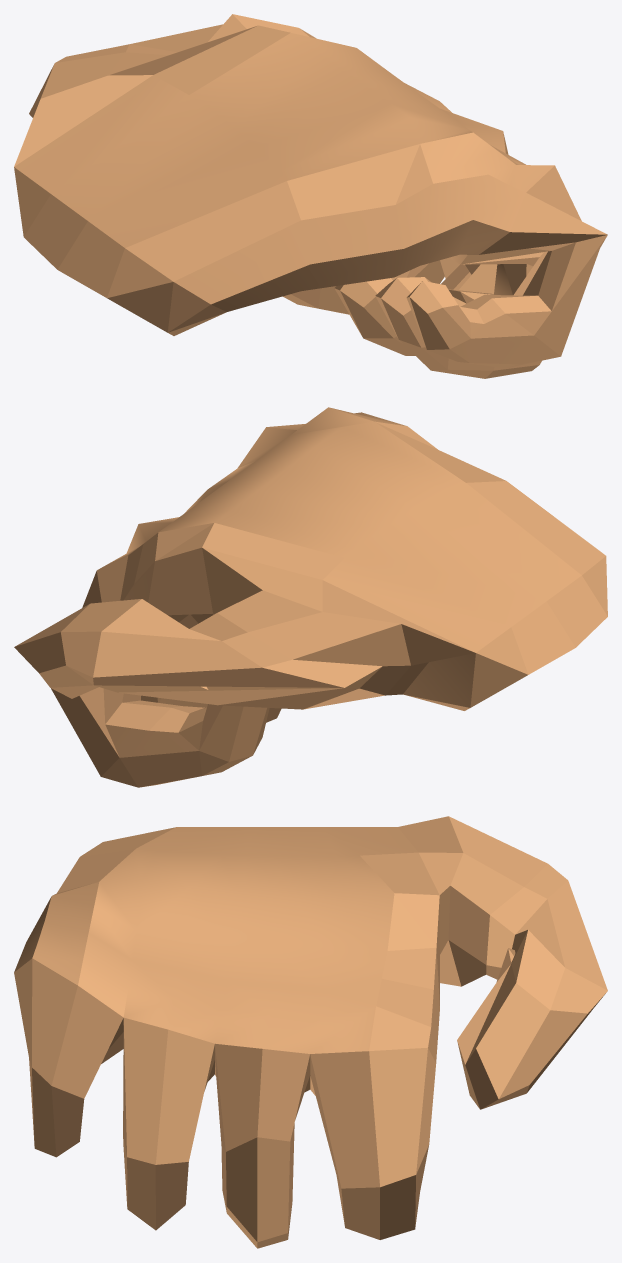
File: right hand close.fbx
3 renders of one model, top to bottom at view 1: azimuth 30°, elevation 25°; view 2: azimuth 150°, elevation 25°; view 3: azimuth 270°, elevation 25°, orthographic. The views are drawn at different scales.
Visible parts, largest first — view 1: Cube.002; view 2: Cube.002; view 3: Cube.002.
Boxes of the visible parts, box(x1,y1,x2,y2) form: Cube.002: box(14, 14, 607, 378); Cube.002: box(14, 407, 607, 787); Cube.002: box(14, 816, 607, 1248).
Bounding box in the file's own units: 301 × 186 × 325.
